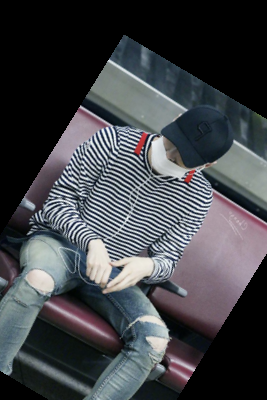mask_weared_incorrect: (144, 91, 237, 193)
